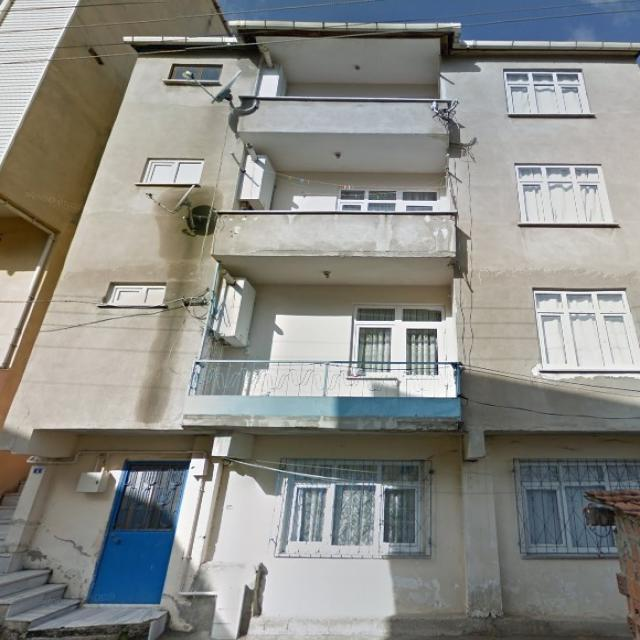Building: (0, 19, 638, 632)
